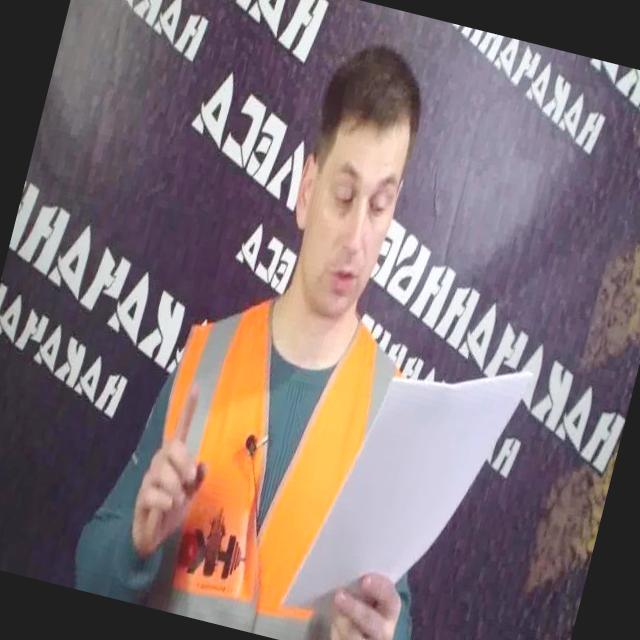vest: (115, 269, 434, 640)
